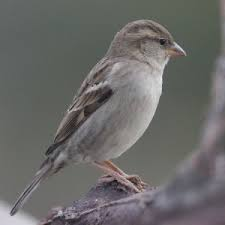hsparrow: (5, 16, 191, 222)
